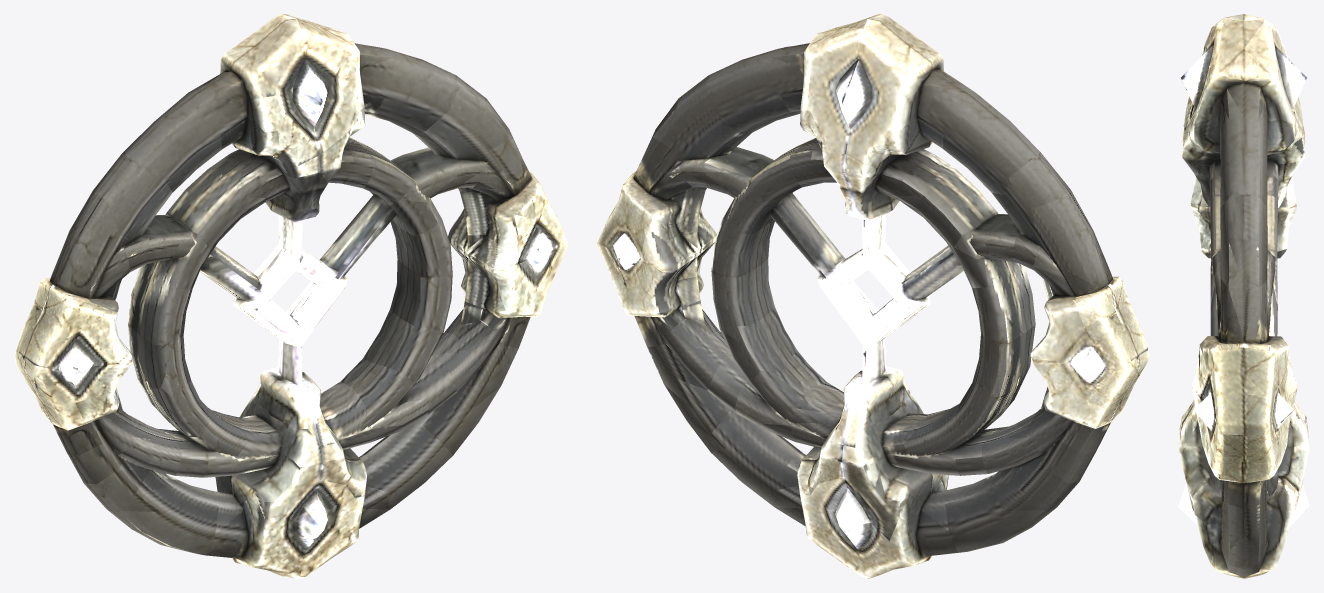
The model's file is small_glyph_03.glb.
3 views of the same model, side by side, from view 1: azimuth 30°, elevation 25°; view 2: azimuth 150°, elevation 25°; view 3: azimuth 270°, elevation 25° (orthographic).
Parts seen in each view (by area): view 1: mesh_node; view 2: mesh_node; view 3: mesh_node.
Boxes of the visible parts, bbox=[...] form: mesh_node: bbox=[14, 14, 568, 578]; mesh_node: bbox=[597, 14, 1149, 578]; mesh_node: bbox=[1178, 14, 1309, 578].
Bounding box in the file's own units: 1 × 1 × 0.2139.
1 material, 1 textured.
